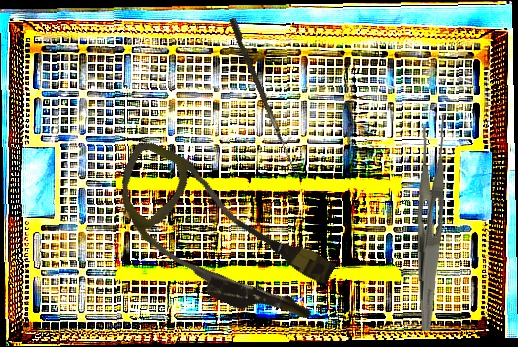Cannula: (91, 136, 349, 340)
Dressing Forceps: (412, 115, 456, 332)
Hook Surgical: (225, 17, 305, 177)
